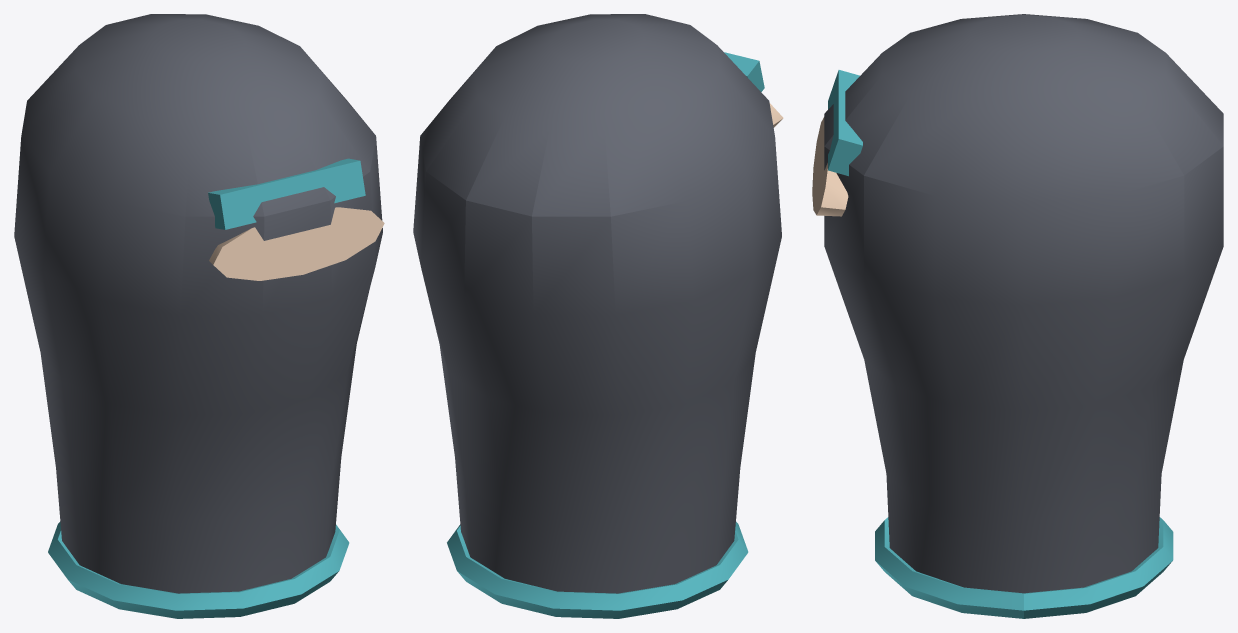
Rendered from snowboard-gear-and-freestyle-riders-balaclava-11bc02cf__27165.glb.
3 renders of one model, left to right at view 1: azimuth 30°, elevation 25°; view 2: azimuth 150°, elevation 25°; view 3: azimuth 270°, elevation 25°, orthographic.
Parts seen in each view (by area): view 1: balaclava; view 2: balaclava; view 3: balaclava.
Part boxes in pixels (<box>): balaclava: <box>14,14,384,618</box>; balaclava: <box>413,14,783,618</box>; balaclava: <box>812,14,1223,618</box>.
Size of the model in its own units: 0.2 by 0.318 by 0.226.
